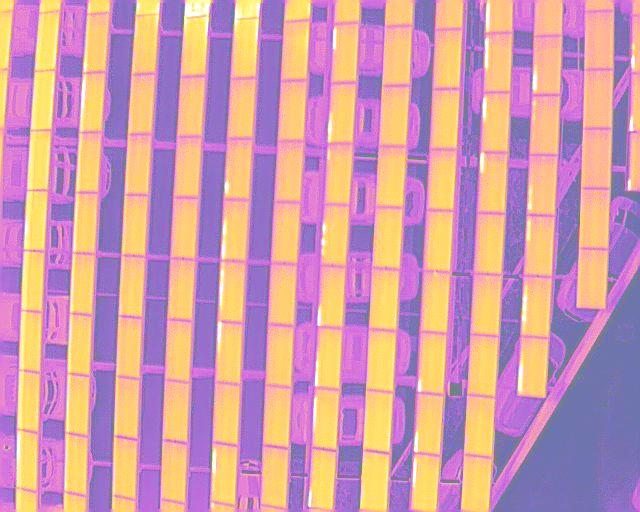Cell: (418, 332, 446, 394)
Cell-Multi: (530, 93, 560, 155), (322, 204, 351, 266)
No-Anomaly: (270, 200, 301, 263), (372, 206, 403, 269), (582, 128, 613, 190), (580, 188, 611, 249), (376, 145, 406, 208), (424, 209, 454, 272), (382, 24, 412, 87), (371, 268, 400, 332), (367, 328, 396, 392), (469, 334, 498, 398), (381, 83, 410, 147), (276, 140, 305, 204), (268, 263, 297, 326), (278, 80, 307, 143), (430, 87, 459, 150), (326, 142, 354, 207), (578, 249, 608, 309), (281, 20, 310, 82), (421, 272, 450, 333), (364, 391, 393, 452), (361, 451, 390, 512), (434, 27, 463, 88), (428, 148, 456, 211), (82, 12, 110, 74), (125, 132, 152, 196), (29, 67, 56, 131), (584, 10, 614, 67), (178, 76, 206, 137), (585, 68, 613, 129), (123, 194, 150, 257), (164, 381, 191, 444), (213, 381, 240, 444), (264, 386, 291, 449), (161, 440, 188, 503), (130, 72, 157, 135), (229, 76, 256, 139), (76, 132, 103, 195), (476, 214, 504, 274), (472, 274, 499, 336), (116, 316, 143, 378), (267, 326, 294, 388), (171, 196, 198, 257), (34, 10, 61, 71), (467, 396, 494, 457), (181, 16, 208, 77), (175, 136, 202, 197), (262, 446, 288, 509), (70, 250, 95, 315), (133, 13, 159, 75), (26, 130, 53, 189), (23, 189, 49, 250), (232, 20, 258, 81), (120, 254, 145, 317), (169, 259, 194, 322), (114, 437, 139, 500), (116, 377, 141, 439), (464, 455, 491, 512), (20, 251, 45, 312), (73, 192, 98, 252), (68, 314, 92, 375), (166, 320, 190, 381), (66, 375, 90, 436), (17, 370, 40, 431), (19, 313, 42, 373), (65, 434, 88, 494)
Unclassified: (524, 214, 556, 277), (478, 153, 509, 214), (533, 33, 563, 96), (216, 320, 245, 385), (225, 135, 253, 202), (483, 31, 513, 92), (328, 82, 357, 145), (318, 266, 347, 328), (529, 154, 558, 215), (415, 393, 444, 454), (481, 91, 510, 152), (221, 198, 249, 260), (523, 275, 551, 337), (314, 328, 342, 390), (518, 336, 547, 395), (311, 388, 339, 449), (80, 71, 107, 134), (211, 444, 239, 504), (219, 260, 246, 322), (332, 22, 359, 84), (308, 450, 336, 509), (412, 454, 440, 512), (15, 432, 38, 491)
